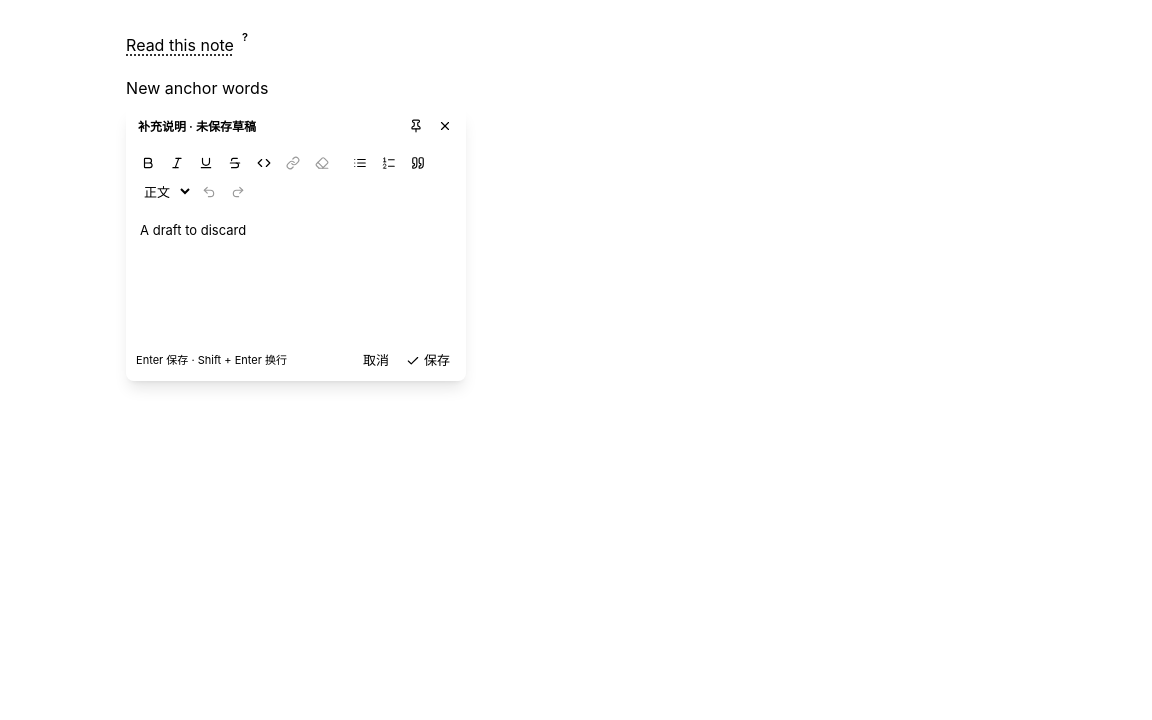
Test: discards a new draft with 取消 without creating an anchor, body or undo event
Step 1. Clear the field with class "nb-annotation-richtext" → (193, 230), box [140, 222, 246, 238]
Wait 30 ms
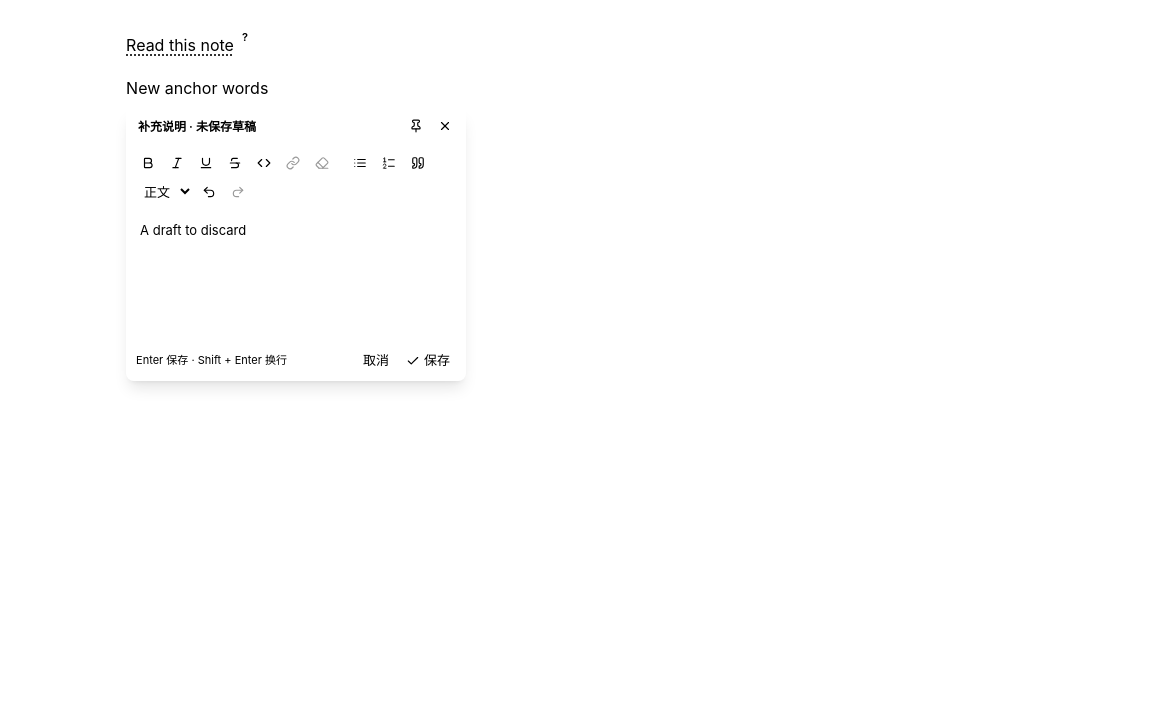
Step 2. Click the button "取消" → (376, 361), box [357, 347, 395, 374]
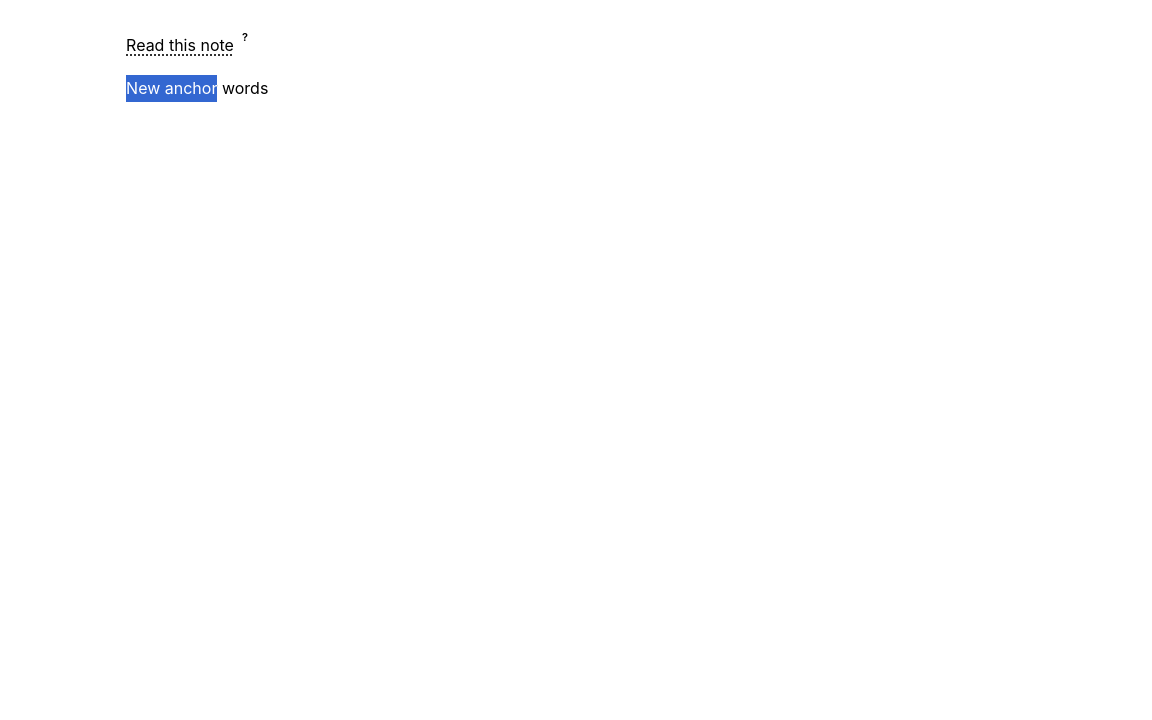
Expected: the dialog with class "nb-annotation-panel" is gone
